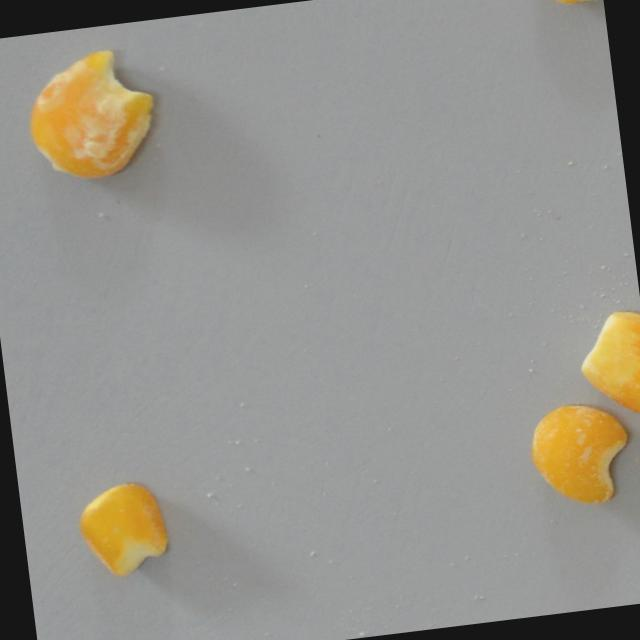no_canjicado: (72, 477, 172, 582), (572, 307, 640, 420)
pelicula: (20, 43, 164, 186), (525, 398, 634, 509)
